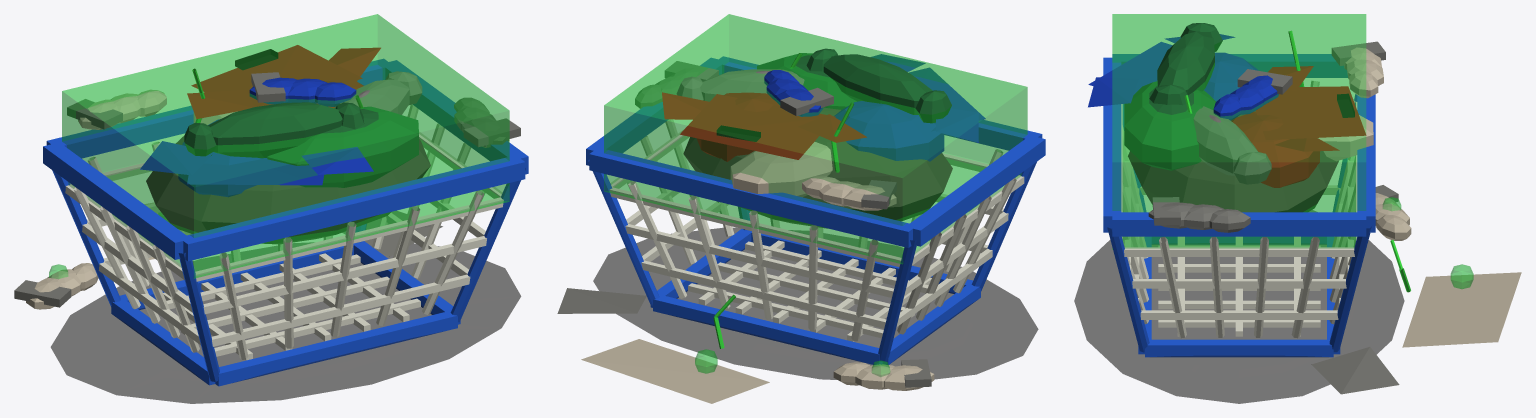
The model's file is laundry_basket_dirty_laundry.obj.
3 views of the same model, side by side, from view 1: azimuth 30°, elevation 25°; view 2: azimuth 150°, elevation 25°; view 3: azimuth 270°, elevation 25° (orthographic). The views are drawn at different scales.
Parts seen in each view (by area): view 1: Guide_Scent_Source_DirtyLaundry_delete_or_hide, Soft_floor_shadow_under_basket, Basket_top_back_thick_rounded_rim, Bulging_dirty_laundry_pile_base, Laundry_pile_towel_lump_back, Rolled_dirty_towel_on_top_rolled_towel_body, Basket_bottom_back_rail, Basket_top_left_thick_rounded_rim, Basket_top_front_thick_rounded_rim, Wrinkled_red_shirt_over_basket_wrinkled_body_panel, Basket_back_horizontal_slot_rail_3, Basket_back_horizontal_slot_rail_2 (+57 smaller); view 2: Guide_Scent_Source_DirtyLaundry_delete_or_hide, Soft_floor_shadow_under_basket, Basket_top_front_thick_rounded_rim, Bulging_dirty_laundry_pile_base, Dropped_dirty_towel_on_floor_front, Wrinkled_red_shirt_over_basket_wrinkled_body_panel, Laundry_pile_high_lump_left, Basket_bottom_front_rail, Basket_top_left_thick_rounded_rim, Rolled_dirty_towel_on_top_rolled_towel_body, Laundry_pile_white_lump_front, Basket_front_horizontal_slot_rail_3 (+59 smaller); view 3: Guide_Scent_Source_DirtyLaundry_delete_or_hide, Soft_floor_shadow_under_basket, Dropped_dirty_towel_on_floor_front, Bulging_dirty_laundry_pile_base, Laundry_pile_towel_lump_back, Basket_top_right_thick_rounded_rim, Wrinkled_red_shirt_over_basket_wrinkled_body_panel, Basket_bottom_right_rail, Laundry_pile_high_lump_right, Rolled_dirty_towel_on_top_rolled_towel_body, Rolled_grey_towel_partly_buried_rolled_towel_body, Basket_top_back_thick_rounded_rim (+42 smaller).
Part boxes in pixels (x1=…): Guide_Scent_Source_DirtyLaundry_delete_or_hide: x1=62, y1=14, x2=509, y2=278; Soft_floor_shadow_under_basket: x1=51, y1=242, x2=520, y2=403; Basket_top_back_thick_rounded_rim: x1=179, y1=155, x2=525, y2=261; Bulging_dirty_laundry_pile_base: x1=146, y1=136, x2=430, y2=243; Laundry_pile_towel_lump_back: x1=267, y1=106, x2=418, y2=187; Rolled_dirty_towel_on_top_rolled_towel_body: x1=208, y1=102, x2=342, y2=158; Basket_bottom_back_rail: x1=215, y1=310, x2=457, y2=386; Basket_top_left_thick_rounded_rim: x1=43, y1=142, x2=186, y2=259; Basket_top_front_thick_rounded_rim: x1=46, y1=59, x2=392, y2=158; Wrinkled_red_shirt_over_basket_wrinkled_body_panel: x1=191, y1=45, x2=362, y2=106; Basket_back_horizontal_slot_rail_3: x1=195, y1=197, x2=503, y2=281; Basket_back_horizontal_slot_rail_2: x1=203, y1=236, x2=486, y2=314; Guide_Scent_Source_DirtyLaundry_delete_or_hide: x1=604, y1=14, x2=1027, y2=264; Soft_floor_shadow_under_basket: x1=593, y1=227, x2=1038, y2=379; Basket_top_front_thick_rounded_rim: x1=589, y1=147, x2=916, y2=247; Bulging_dirty_laundry_pile_base: x1=683, y1=107, x2=952, y2=228; Dropped_dirty_towel_on_floor_front: x1=581, y1=339, x2=769, y2=403; Wrinkled_red_shirt_over_basket_wrinkled_body_panel: x1=680, y1=94, x2=835, y2=159; Laundry_pile_high_lump_left: x1=834, y1=101, x2=944, y2=161; Basket_bottom_front_rail: x1=653, y1=295, x2=882, y2=364; Basket_top_left_thick_rounded_rim: x1=905, y1=135, x2=1045, y2=246; Rolled_dirty_towel_on_top_rolled_towel_body: x1=823, y1=54, x2=932, y2=114; Laundry_pile_white_lump_front: x1=730, y1=142, x2=832, y2=197; Basket_front_horizontal_slot_rail_3: x1=609, y1=187, x2=901, y2=267; Guide_Scent_Source_DirtyLaundry_delete_or_hide: x1=1112, y1=14, x2=1366, y2=249; Soft_floor_shadow_under_basket: x1=1074, y1=210, x2=1404, y2=403; Dropped_dirty_towel_on_floor_front: x1=1402, y1=272, x2=1521, y2=347; Bulging_dirty_laundry_pile_base: x1=1128, y1=111, x2=1338, y2=212; Laundry_pile_towel_lump_back: x1=1124, y1=81, x2=1215, y2=170; Basket_top_right_thick_rounded_rim: x1=1112, y1=212, x2=1366, y2=236; Wrinkled_red_shirt_over_basket_wrinkled_body_panel: x1=1256, y1=86, x2=1366, y2=139; Basket_bottom_right_rail: x1=1145, y1=339, x2=1333, y2=357; Laundry_pile_high_lump_right: x1=1231, y1=111, x2=1319, y2=187; Rolled_dirty_towel_on_top_rolled_towel_body: x1=1157, y1=31, x2=1214, y2=95; Rolled_grey_towel_partly_buried_rolled_towel_body: x1=1193, y1=106, x2=1257, y2=175; Basket_top_back_thick_rounded_rim: x1=1103, y1=57, x2=1121, y2=232.
Size of what is drawn, in the model's own units: 2.02 by 1.12 by 1.85.
